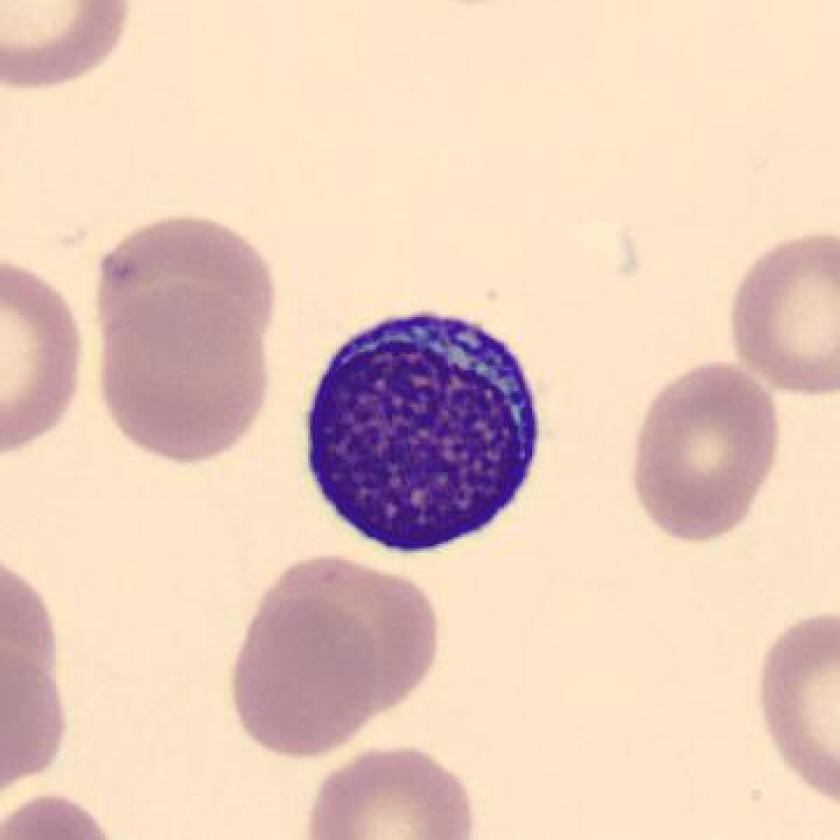lymphocyte: (293, 293, 561, 570)
